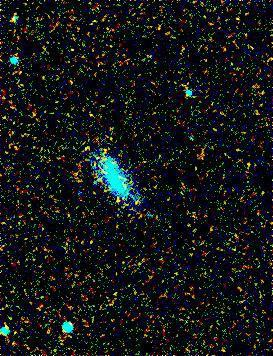star: (106, 187, 136, 217)
